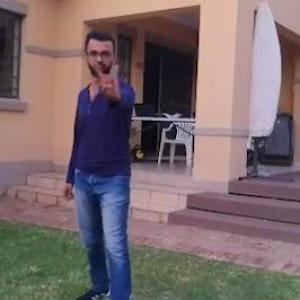takeoff-hand: (95, 55, 126, 100)
